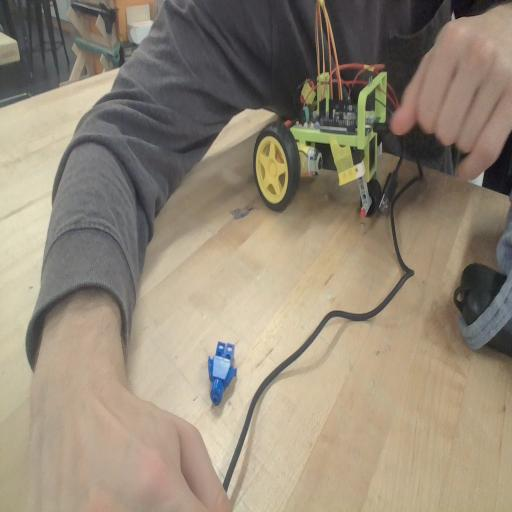blue LEGO minifig: (205, 336, 240, 404)
